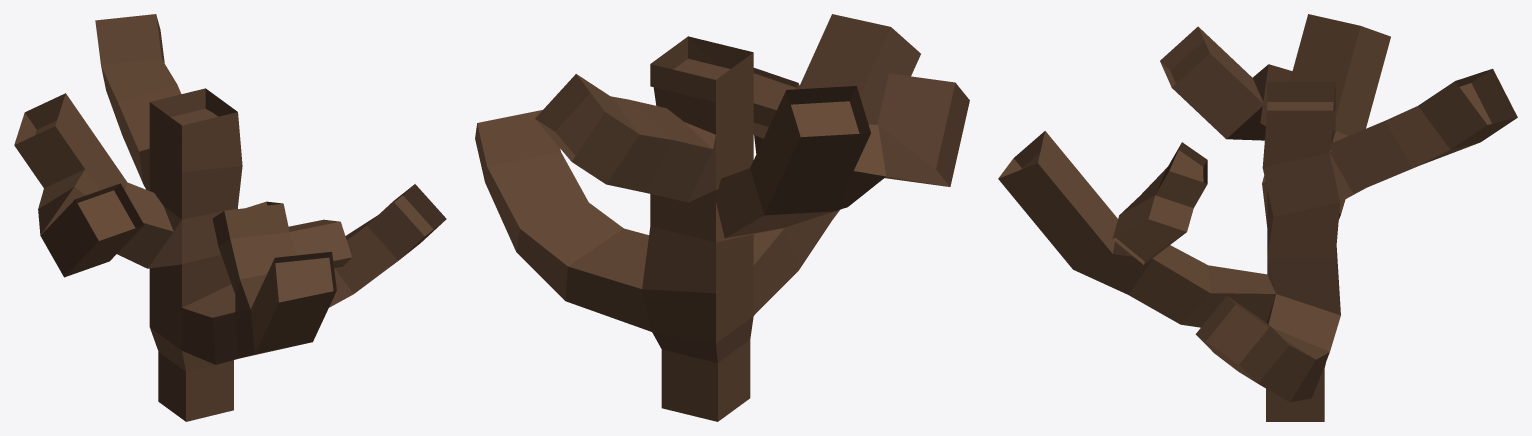
Rendered from Algas1.glb.
3 views of the same model, side by side, from view 1: azimuth 30°, elevation 25°; view 2: azimuth 150°, elevation 25°; view 3: azimuth 270°, elevation 25° (orthographic). The views are drawn at different scales.
Parts seen in each view (by area): view 1: Cube; view 2: Cube; view 3: Cube.
Boxes of the visible parts, x1,y1,x2,y2 form: Cube: [14, 14, 446, 421]; Cube: [475, 14, 969, 421]; Cube: [998, 14, 1517, 421].
Size of the model in its own units: 16.68 by 13.07 by 17.76.
